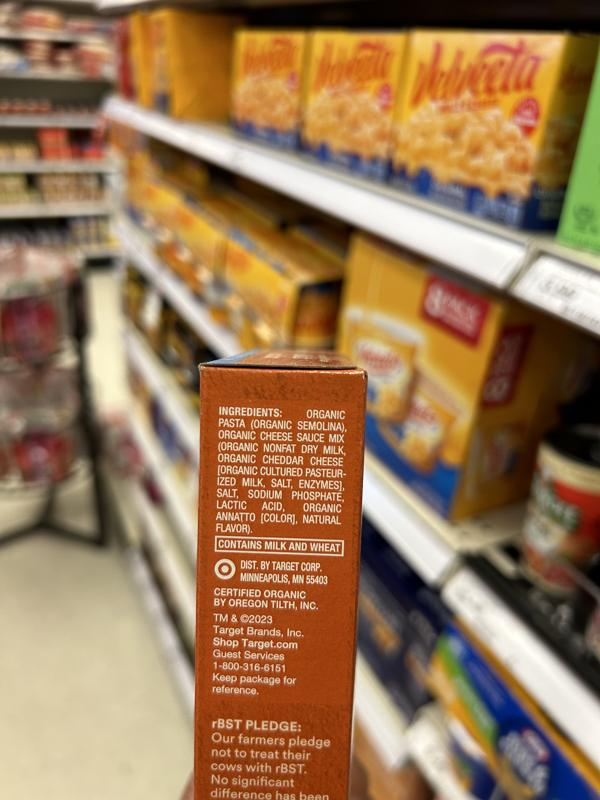ingredients: (215, 406, 347, 535)
